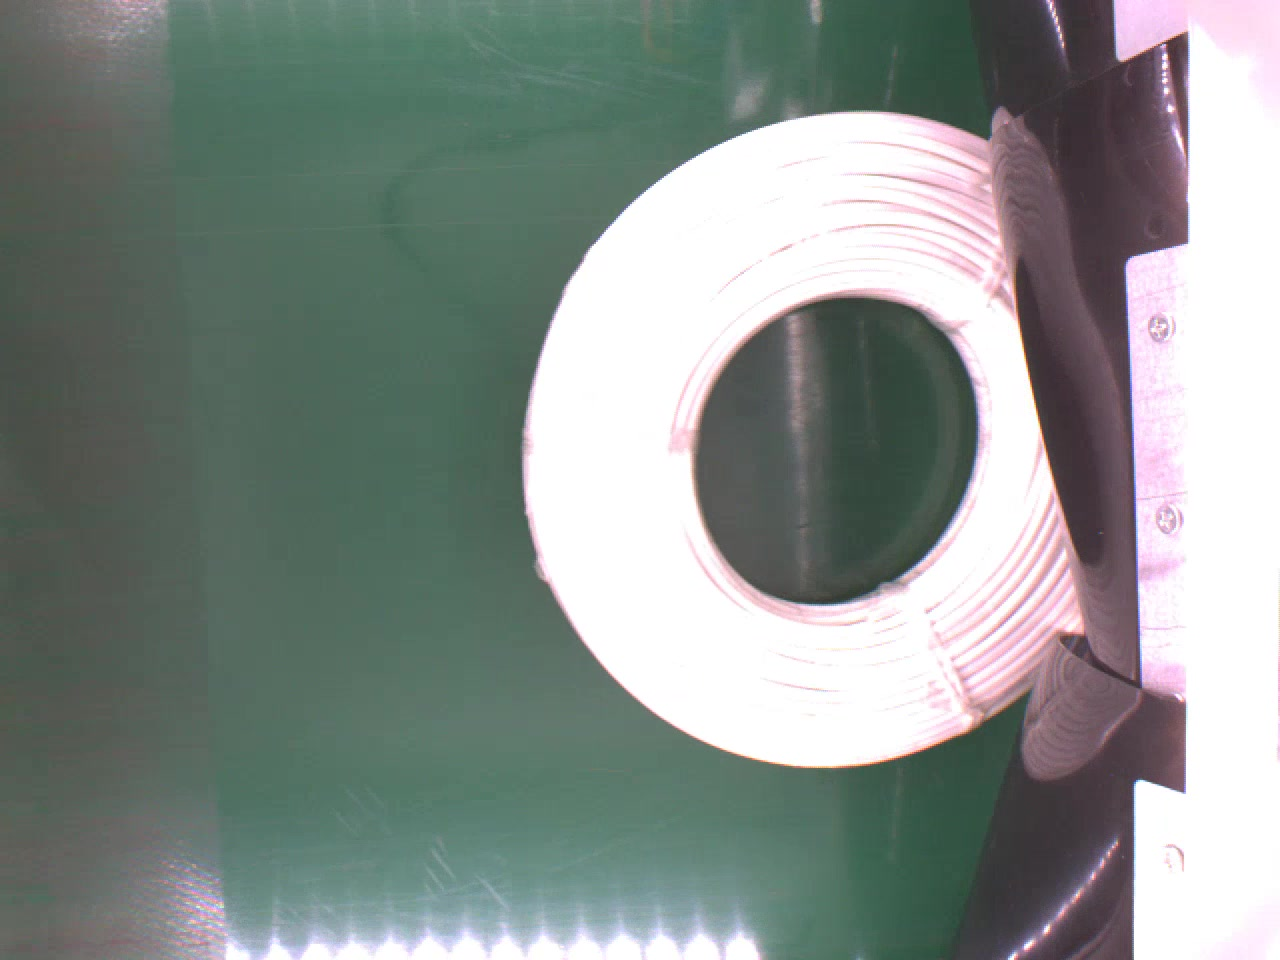white: (522, 106, 1085, 776)
